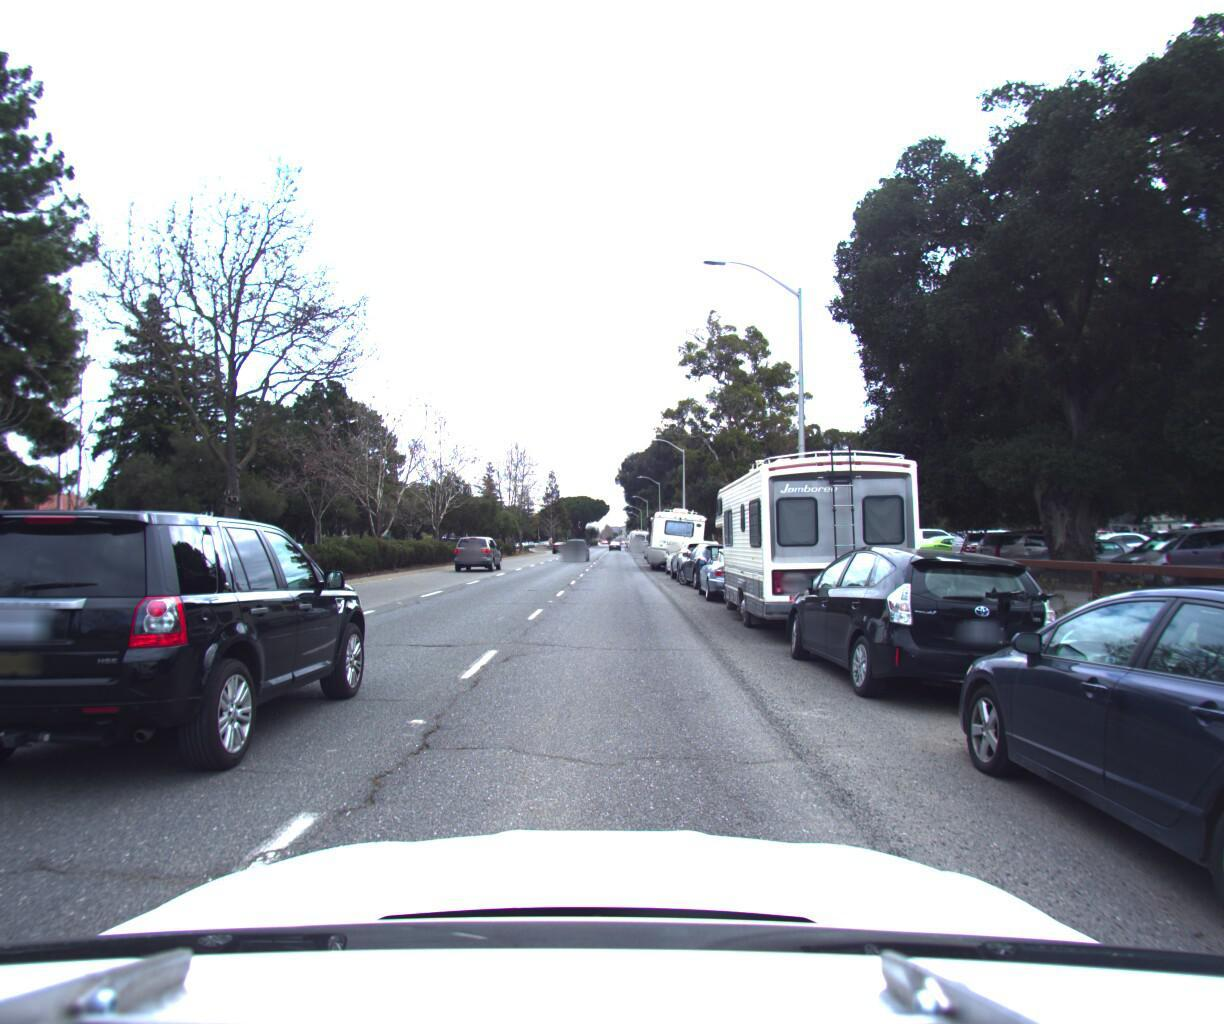car: (925, 557, 1224, 1024), (0, 506, 383, 817), (776, 536, 1078, 719), (0, 533, 171, 739), (1086, 517, 1224, 580), (986, 529, 1160, 577), (965, 521, 1104, 571), (691, 537, 781, 606), (1153, 513, 1224, 598), (953, 520, 1081, 566), (670, 534, 755, 587), (665, 531, 726, 581), (451, 529, 506, 568), (661, 534, 706, 571), (564, 528, 590, 551)
other_vehicle: (700, 430, 942, 653), (645, 499, 708, 568)
